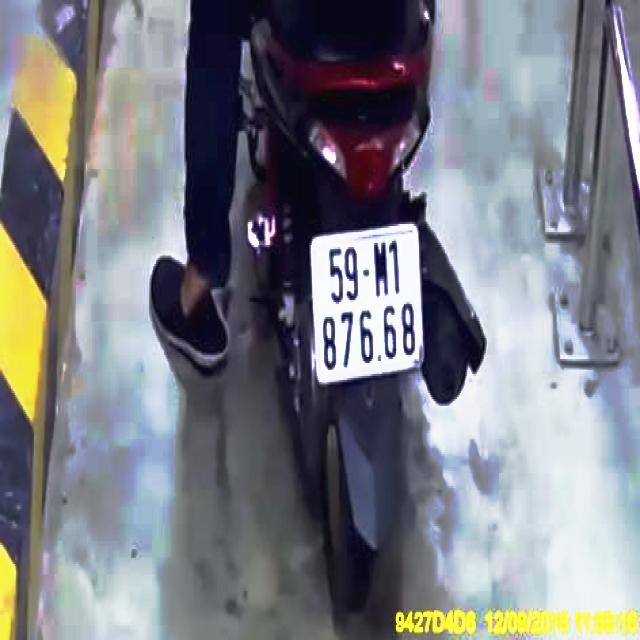license_plate: (312, 226, 426, 384)
